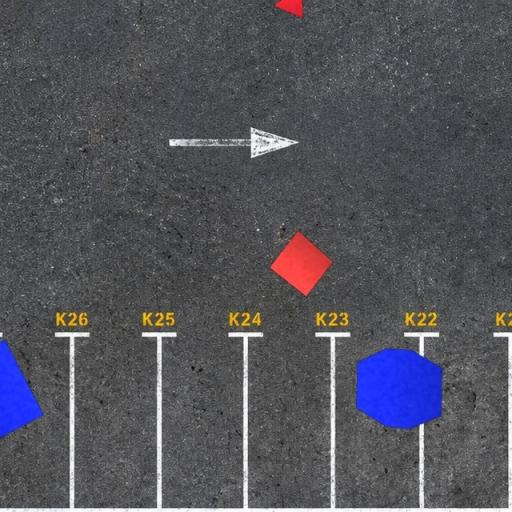BLUE_SQUARE: (0, 339, 45, 458)
RED_SQUARE: (268, 230, 334, 298)
